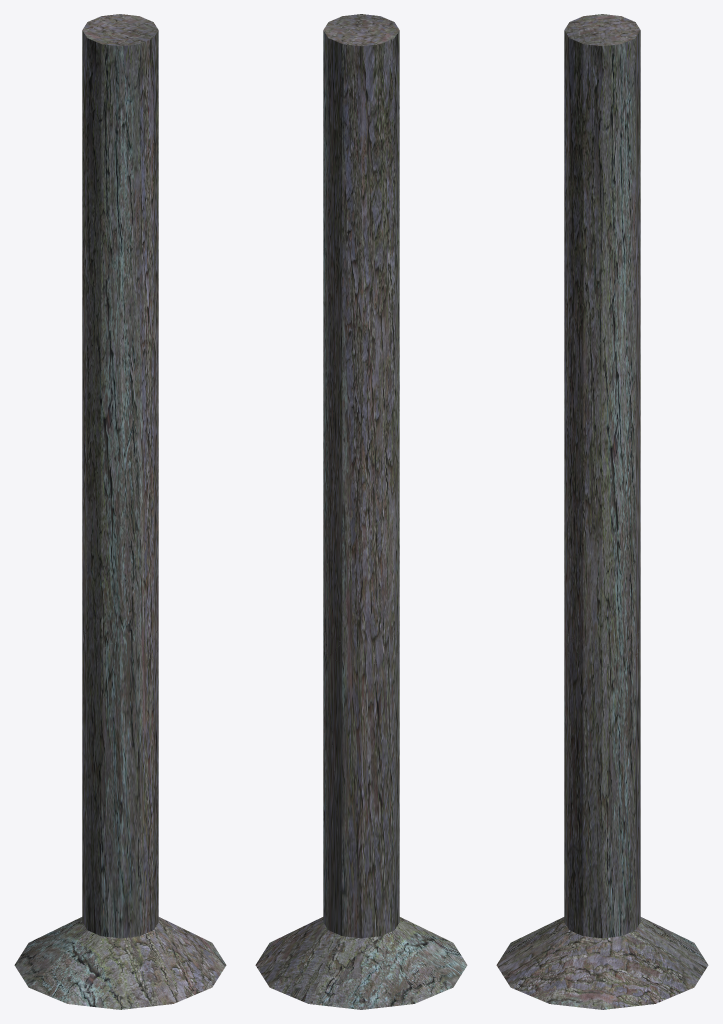
The model's file is Tree.glb.
3 renders of one model, left to right at view 1: azimuth 30°, elevation 25°; view 2: azimuth 150°, elevation 25°; view 3: azimuth 270°, elevation 25°, orthographic.
Parts seen in each view (by area): view 1: Cylinder; view 2: Cylinder; view 3: Cylinder.
Part boxes in pixels (<box>): Cylinder: <box>14,14,226,1009</box>; Cylinder: <box>255,14,467,1009</box>; Cylinder: <box>496,14,708,1009</box>.
Size of the model in its own units: 5.56 by 27.02 by 5.56.
1 material, 1 textured.
